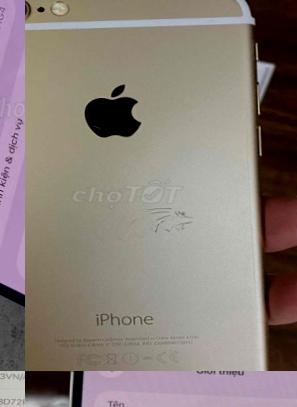scratch: (98, 186, 229, 262)
